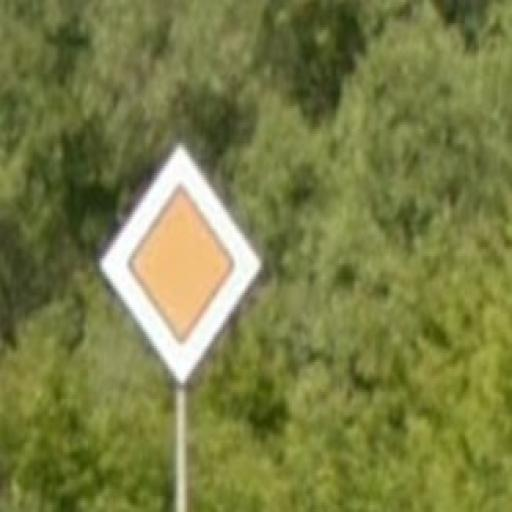traffic_sign: (98, 144, 265, 388)
